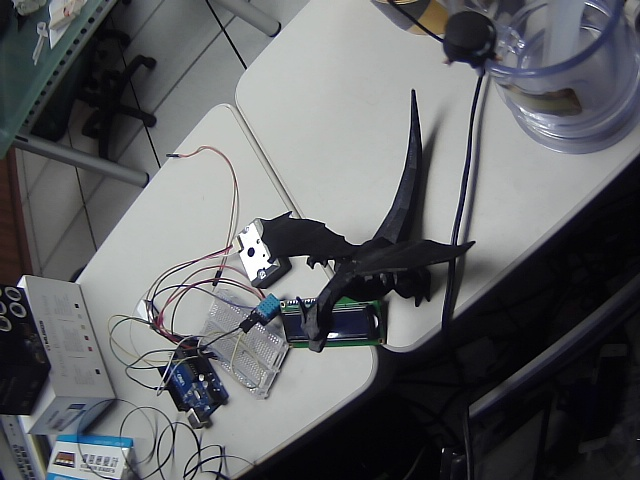charizard: (249, 84, 481, 361)
